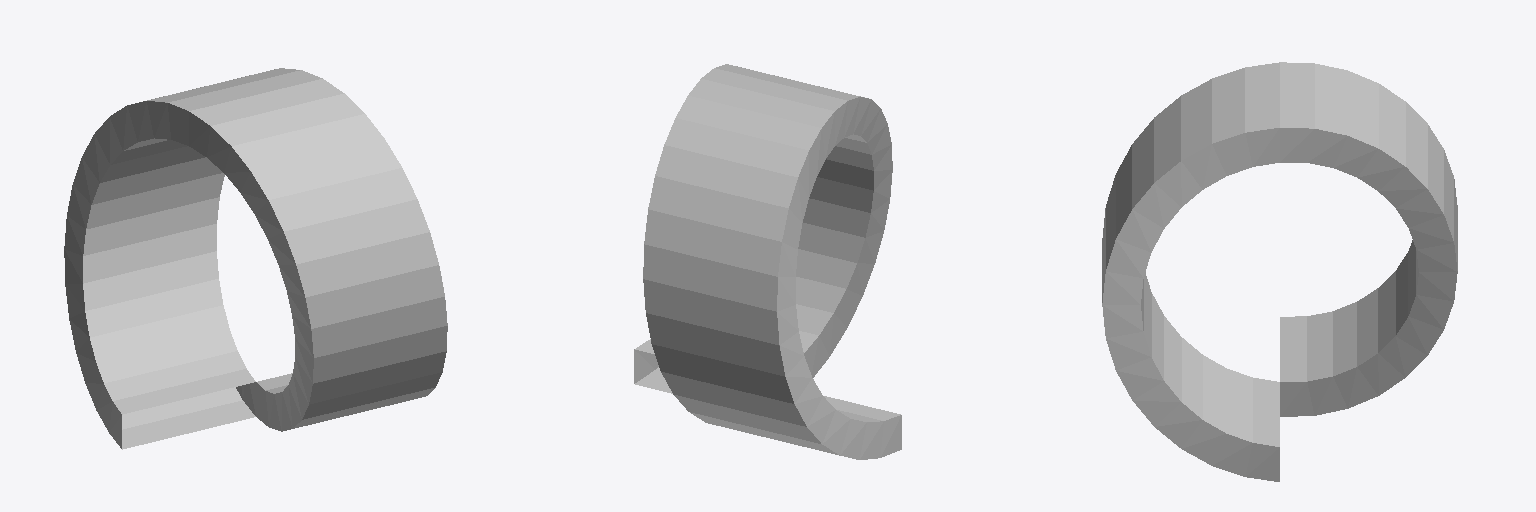
File: loop.obj
3 views of the same model, side by side, from view 1: azimuth 30°, elevation 25°; view 2: azimuth 150°, elevation 25°; view 3: azimuth 270°, elevation 25° (orthographic).
Visible parts, largest first — view 1: Cube_Cube.002; view 2: Cube_Cube.002; view 3: Cube_Cube.002.
Boxes of the visible parts, <box> form: Cube_Cube.002: <box>64,68,447,449</box>; Cube_Cube.002: <box>634,64,901,459</box>; Cube_Cube.002: <box>1102,62,1457,481</box>.
Bounding box in the file's own units: 16 × 18.39 × 18.39.